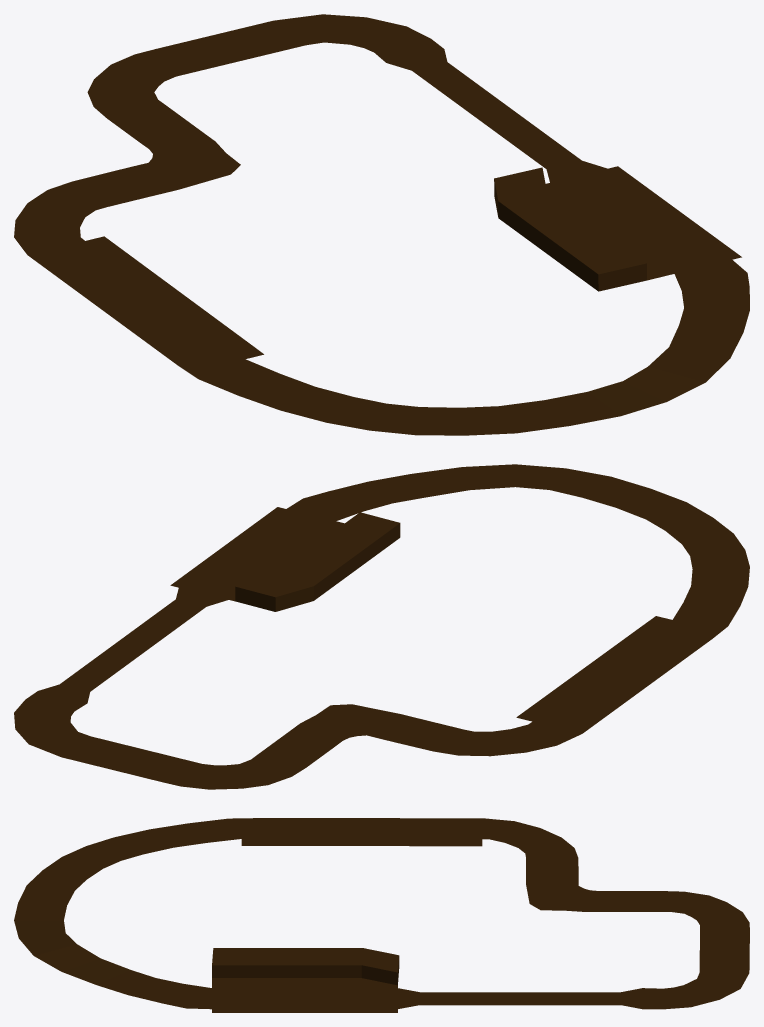
File: PistaChida.fbx
3 views of the same model, one above another, from view 1: azimuth 30°, elevation 25°; view 2: azimuth 150°, elevation 25°; view 3: azimuth 270°, elevation 25° (orthographic). The views are drawn at different scales.
Visible parts, largest first — view 1: PistaChida; view 2: PistaChida; view 3: PistaChida.
Part boxes in pixels (bbox=[...]): PistaChida: bbox=[14, 14, 749, 435]; PistaChida: bbox=[14, 464, 749, 789]; PistaChida: bbox=[14, 818, 749, 1012].
Size of the model in its own units: 10083 by 312 by 16099.
